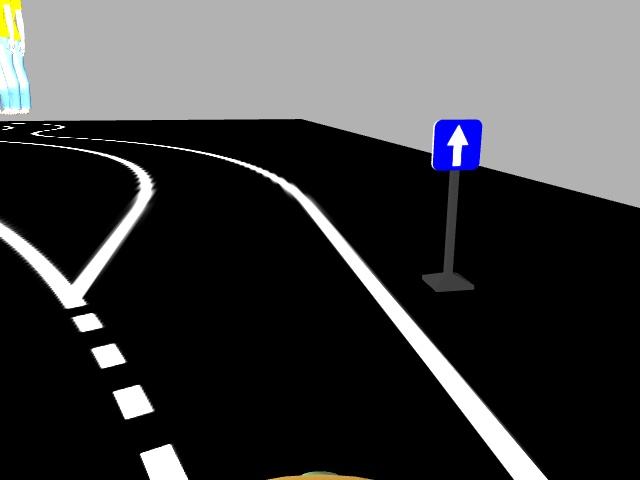OneWay: (431, 117, 483, 171)
